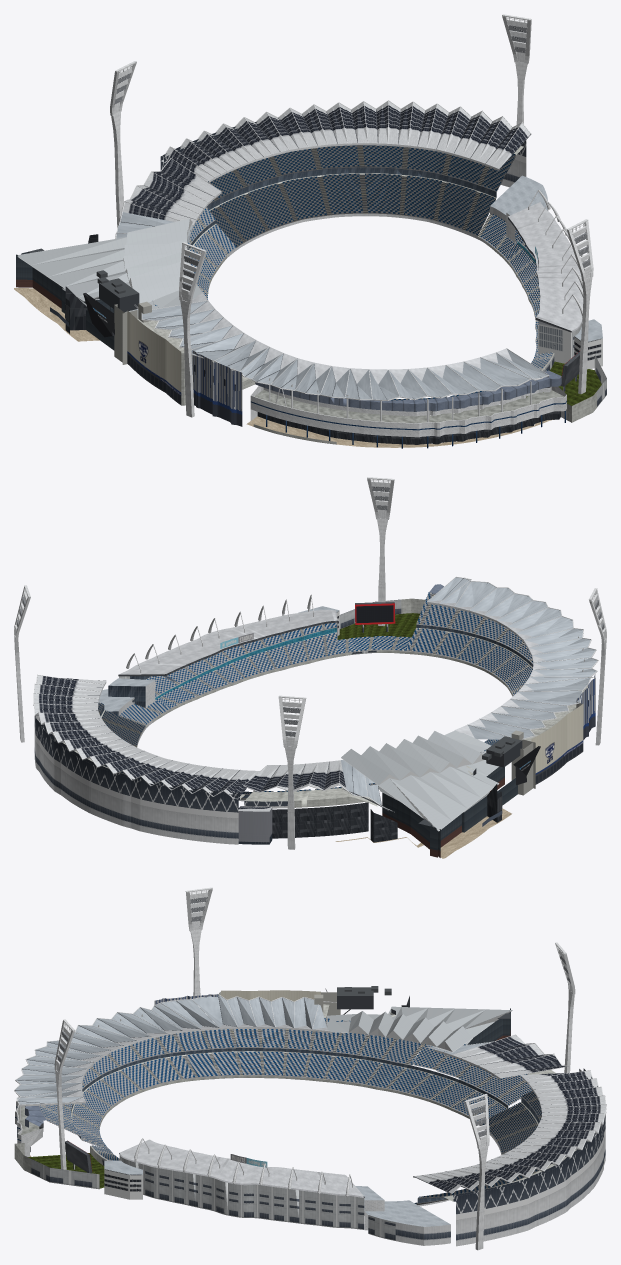
File: gmhba.glb
The picture shows the model from 3 angles, top to bottom: view 1: azimuth 30°, elevation 25°; view 2: azimuth 150°, elevation 25°; view 3: azimuth 270°, elevation 25°; orthographic projection. The views are drawn at different scales.
Parts seen in each view (by area): view 1: gmhba, jss_roof; view 2: gmhba, jss_roof; view 3: gmhba, jss_roof.
Part boxes in pixels (x1,y1,x2,y2): gmhba: (14,14,606,448); jss_roof: (16,218,202,364); gmhba: (14,477,606,858); jss_roof: (341,730,540,857); gmhba: (14,887,606,1250); jss_roof: (314,986,512,1065).
Size of the model in its own units: 236 by 74.7 by 269.
47 materials, 47 textured.
